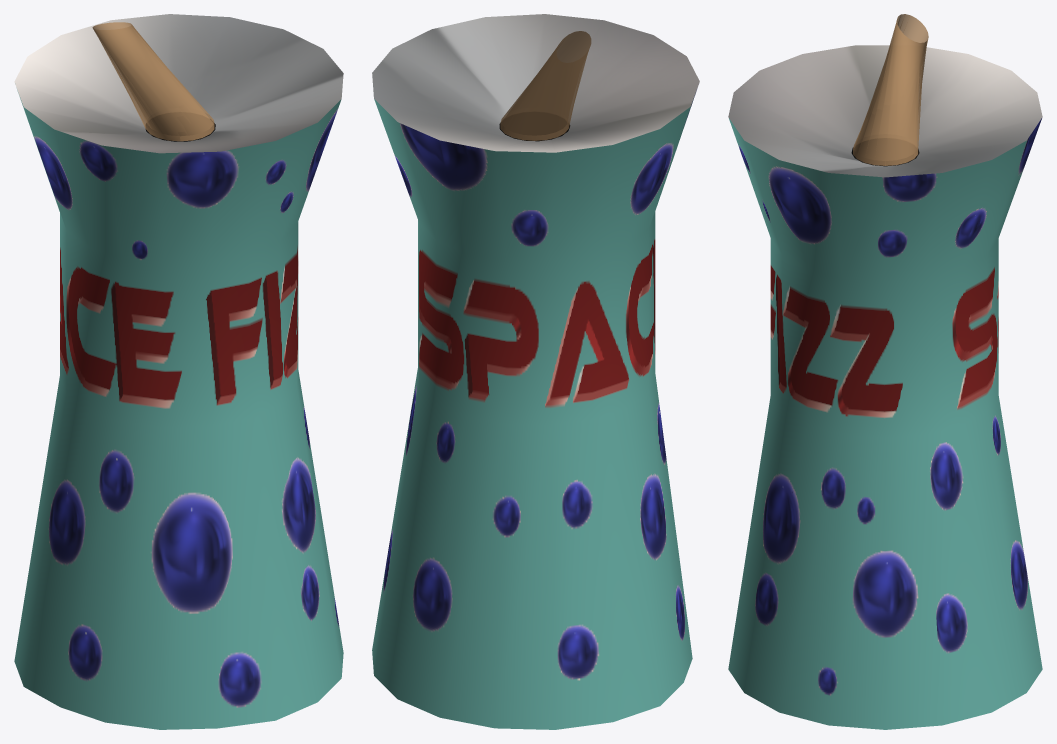
The model's file is HUBDrink-Fizz2.fbx.
3 renders of one model, left to right at view 1: azimuth 30°, elevation 25°; view 2: azimuth 150°, elevation 25°; view 3: azimuth 270°, elevation 25°, orthographic. The views are drawn at different scales.
Parts seen in each view (by area): view 1: pCylinder1, pTorus1; view 2: pCylinder1, pTorus1; view 3: pCylinder1, pTorus1.
Boxes of the visible parts, bbox=[...] form: pCylinder1: bbox=[14, 14, 343, 729]; pTorus1: bbox=[92, 22, 214, 141]; pCylinder1: bbox=[372, 14, 699, 729]; pTorus1: bbox=[500, 31, 591, 140]; pCylinder1: bbox=[728, 45, 1042, 729]; pTorus1: bbox=[853, 14, 928, 165].
Bounding box in the file's own units: 148 × 323 × 149.
